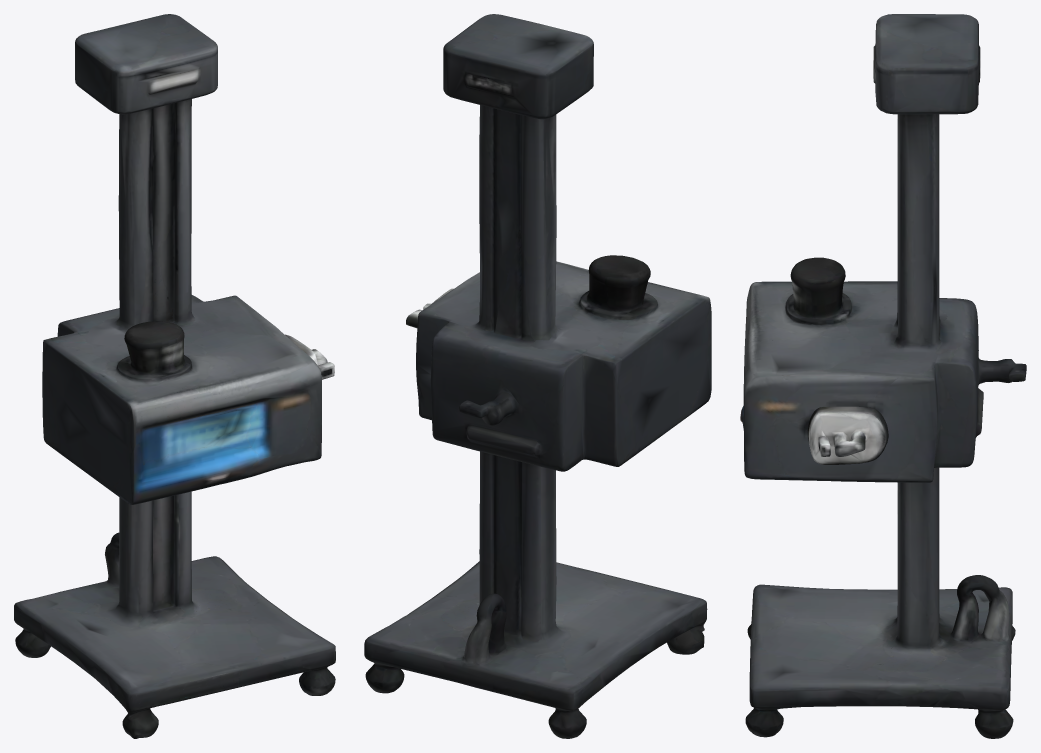
The model's file is headlight-tester.glb.
3 views of the same model, side by side, from view 1: azimuth 30°, elevation 25°; view 2: azimuth 150°, elevation 25°; view 3: azimuth 270°, elevation 25° (orthographic). The views are drawn at different scales.
Parts seen in each view (by area): view 1: node_0; view 2: node_0; view 3: node_0.
Part boxes in pixels (x1,y1,x2,y2): node_0: [14, 14, 335, 738]; node_0: [364, 14, 711, 738]; node_0: [740, 14, 1026, 738].
Bounding box in the file's own units: 0.4292 × 1.07 × 0.4288.
1 material, 1 textured.
